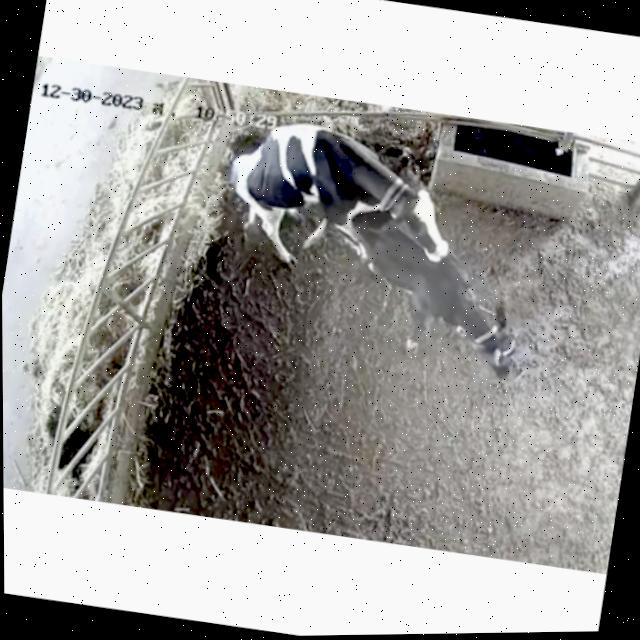ride: (200, 96, 469, 295)
